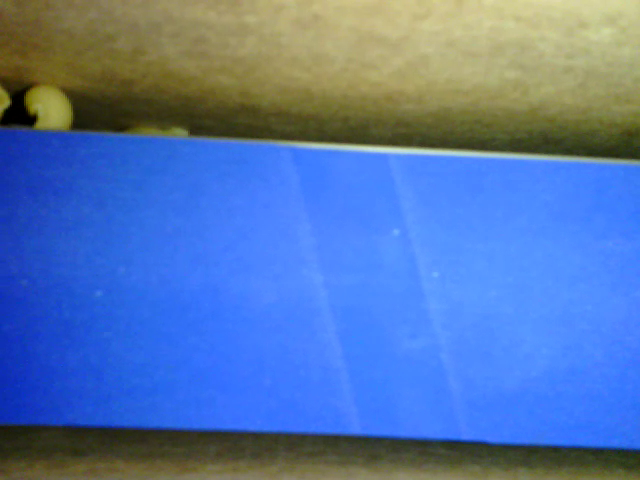shell: (22, 83, 73, 133)
